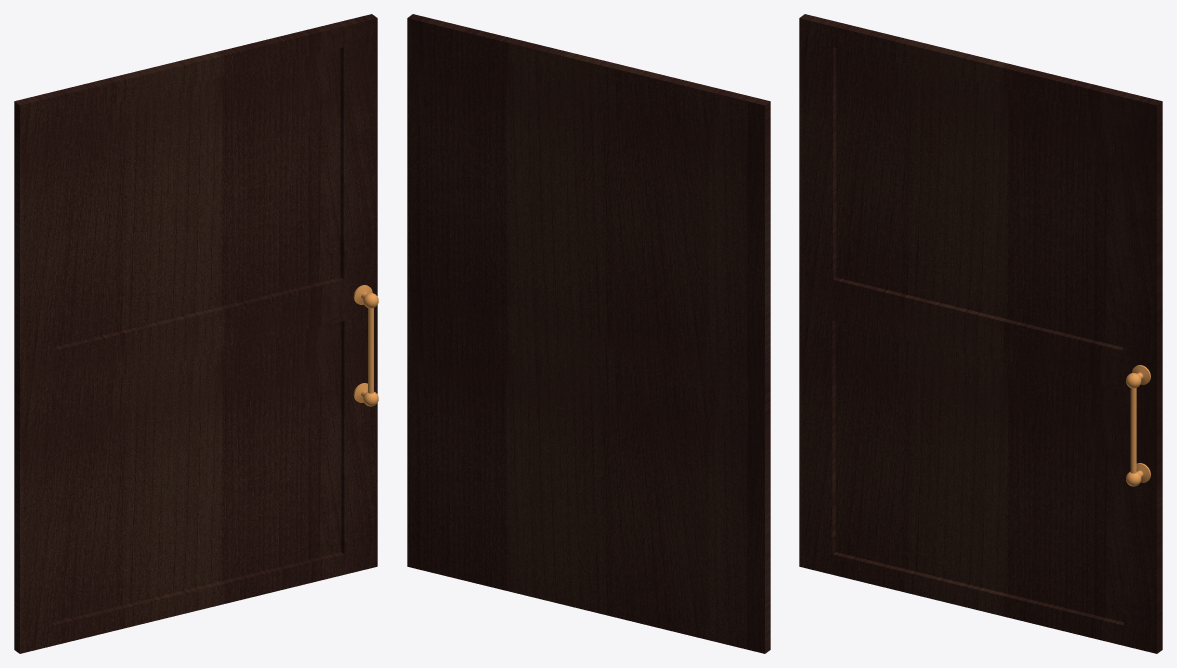
Rendered from door.fbx.
The picture shows the model from 3 angles, left to right: view 1: azimuth 30°, elevation 25°; view 2: azimuth 150°, elevation 25°; view 3: azimuth 330°, elevation 25°; orthographic projection.
Parts seen in each view (by area): view 1: Cube.001, Sphere.001; view 2: Cube.001; view 3: Cube.001, Sphere.001.
Boxes of the visible parts, bbox=[...] form: Cube.001: bbox=[14, 14, 377, 653]; Sphere.001: bbox=[353, 285, 378, 406]; Cube.001: bbox=[407, 14, 770, 653]; Cube.001: bbox=[799, 14, 1162, 653]; Sphere.001: bbox=[1126, 365, 1150, 486].
Size of the model in its own units: 203 by 298 by 17.66.
